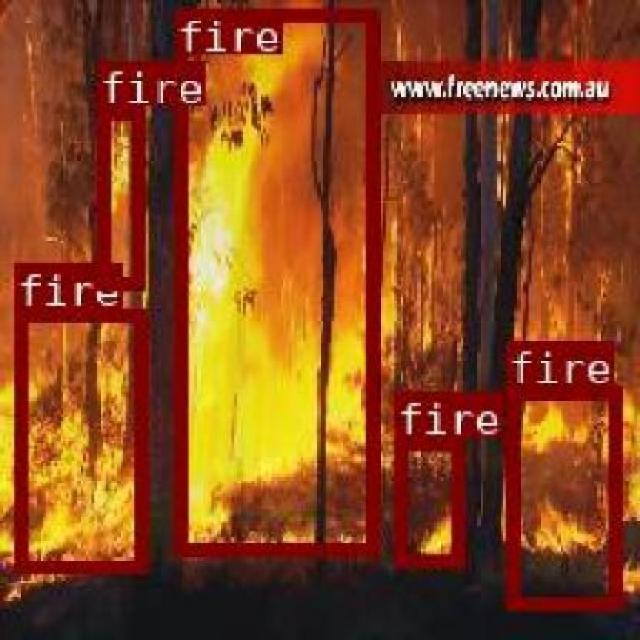Fire: (174, 9, 376, 554), (11, 308, 146, 570), (503, 384, 617, 608), (392, 436, 461, 564), (94, 105, 142, 288)
